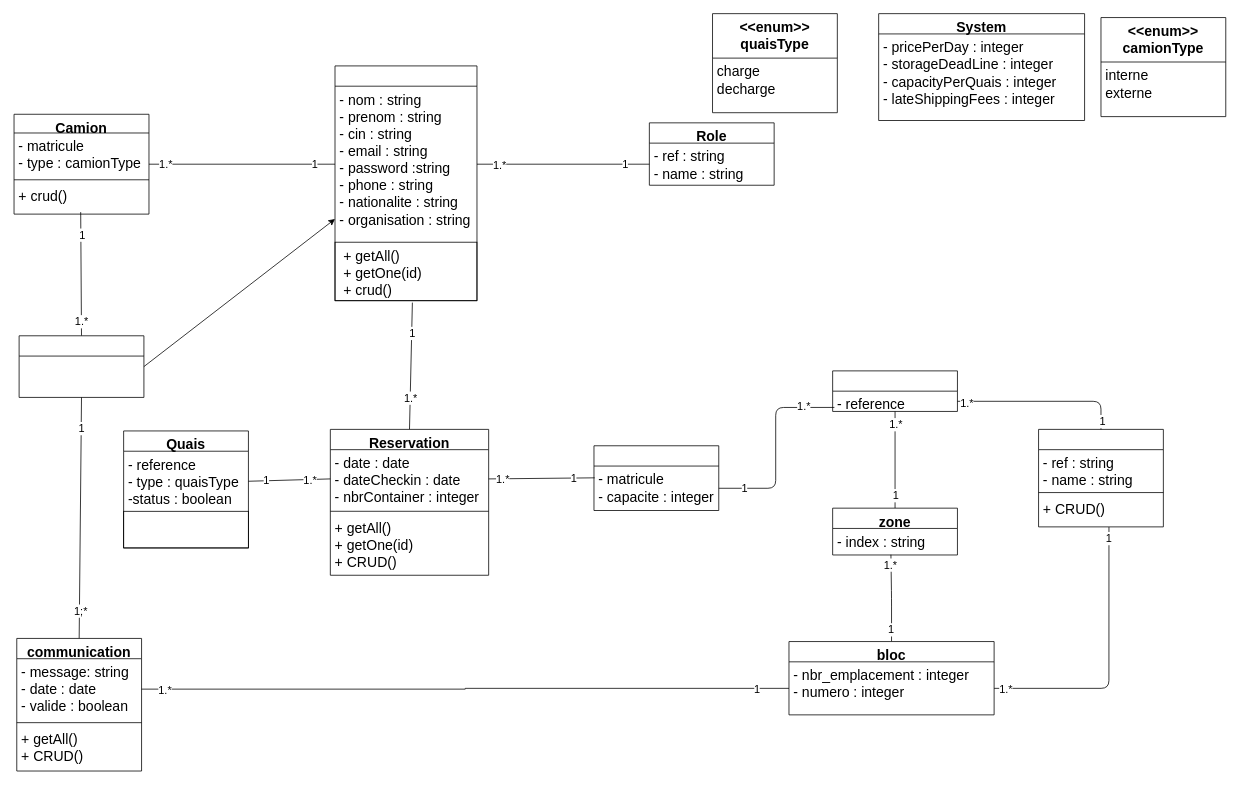
Some shapes in this 1239 by 787 pixel diagram are drawn without their labels. Here are the shapes that lost their labels. From the top down, the box of each, then its label:
(334, 65, 477, 301): User
(18, 335, 144, 397): chauffeur
(832, 370, 957, 411): Container
(593, 445, 719, 511): Naviere
(1038, 429, 1163, 527): Categorie
(123, 511, 248, 548): + checkAvailability()
